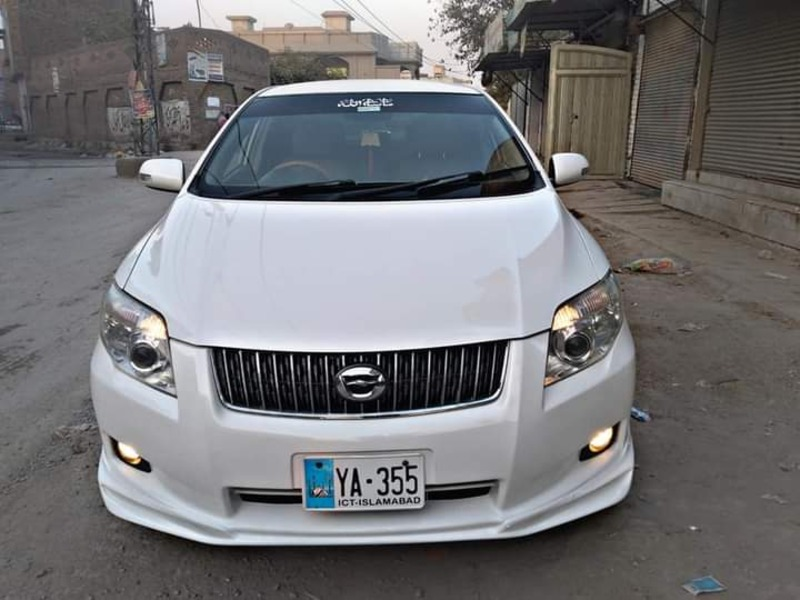License Plate: (296, 453, 429, 517)
